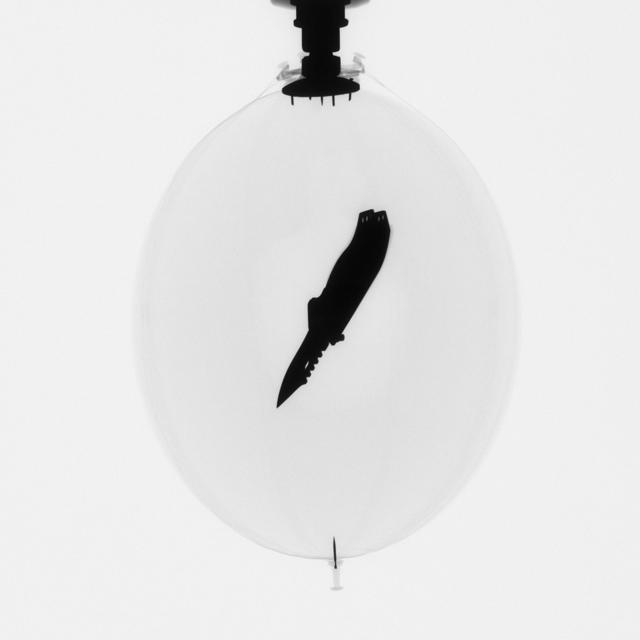knife: (270, 212, 394, 408)
